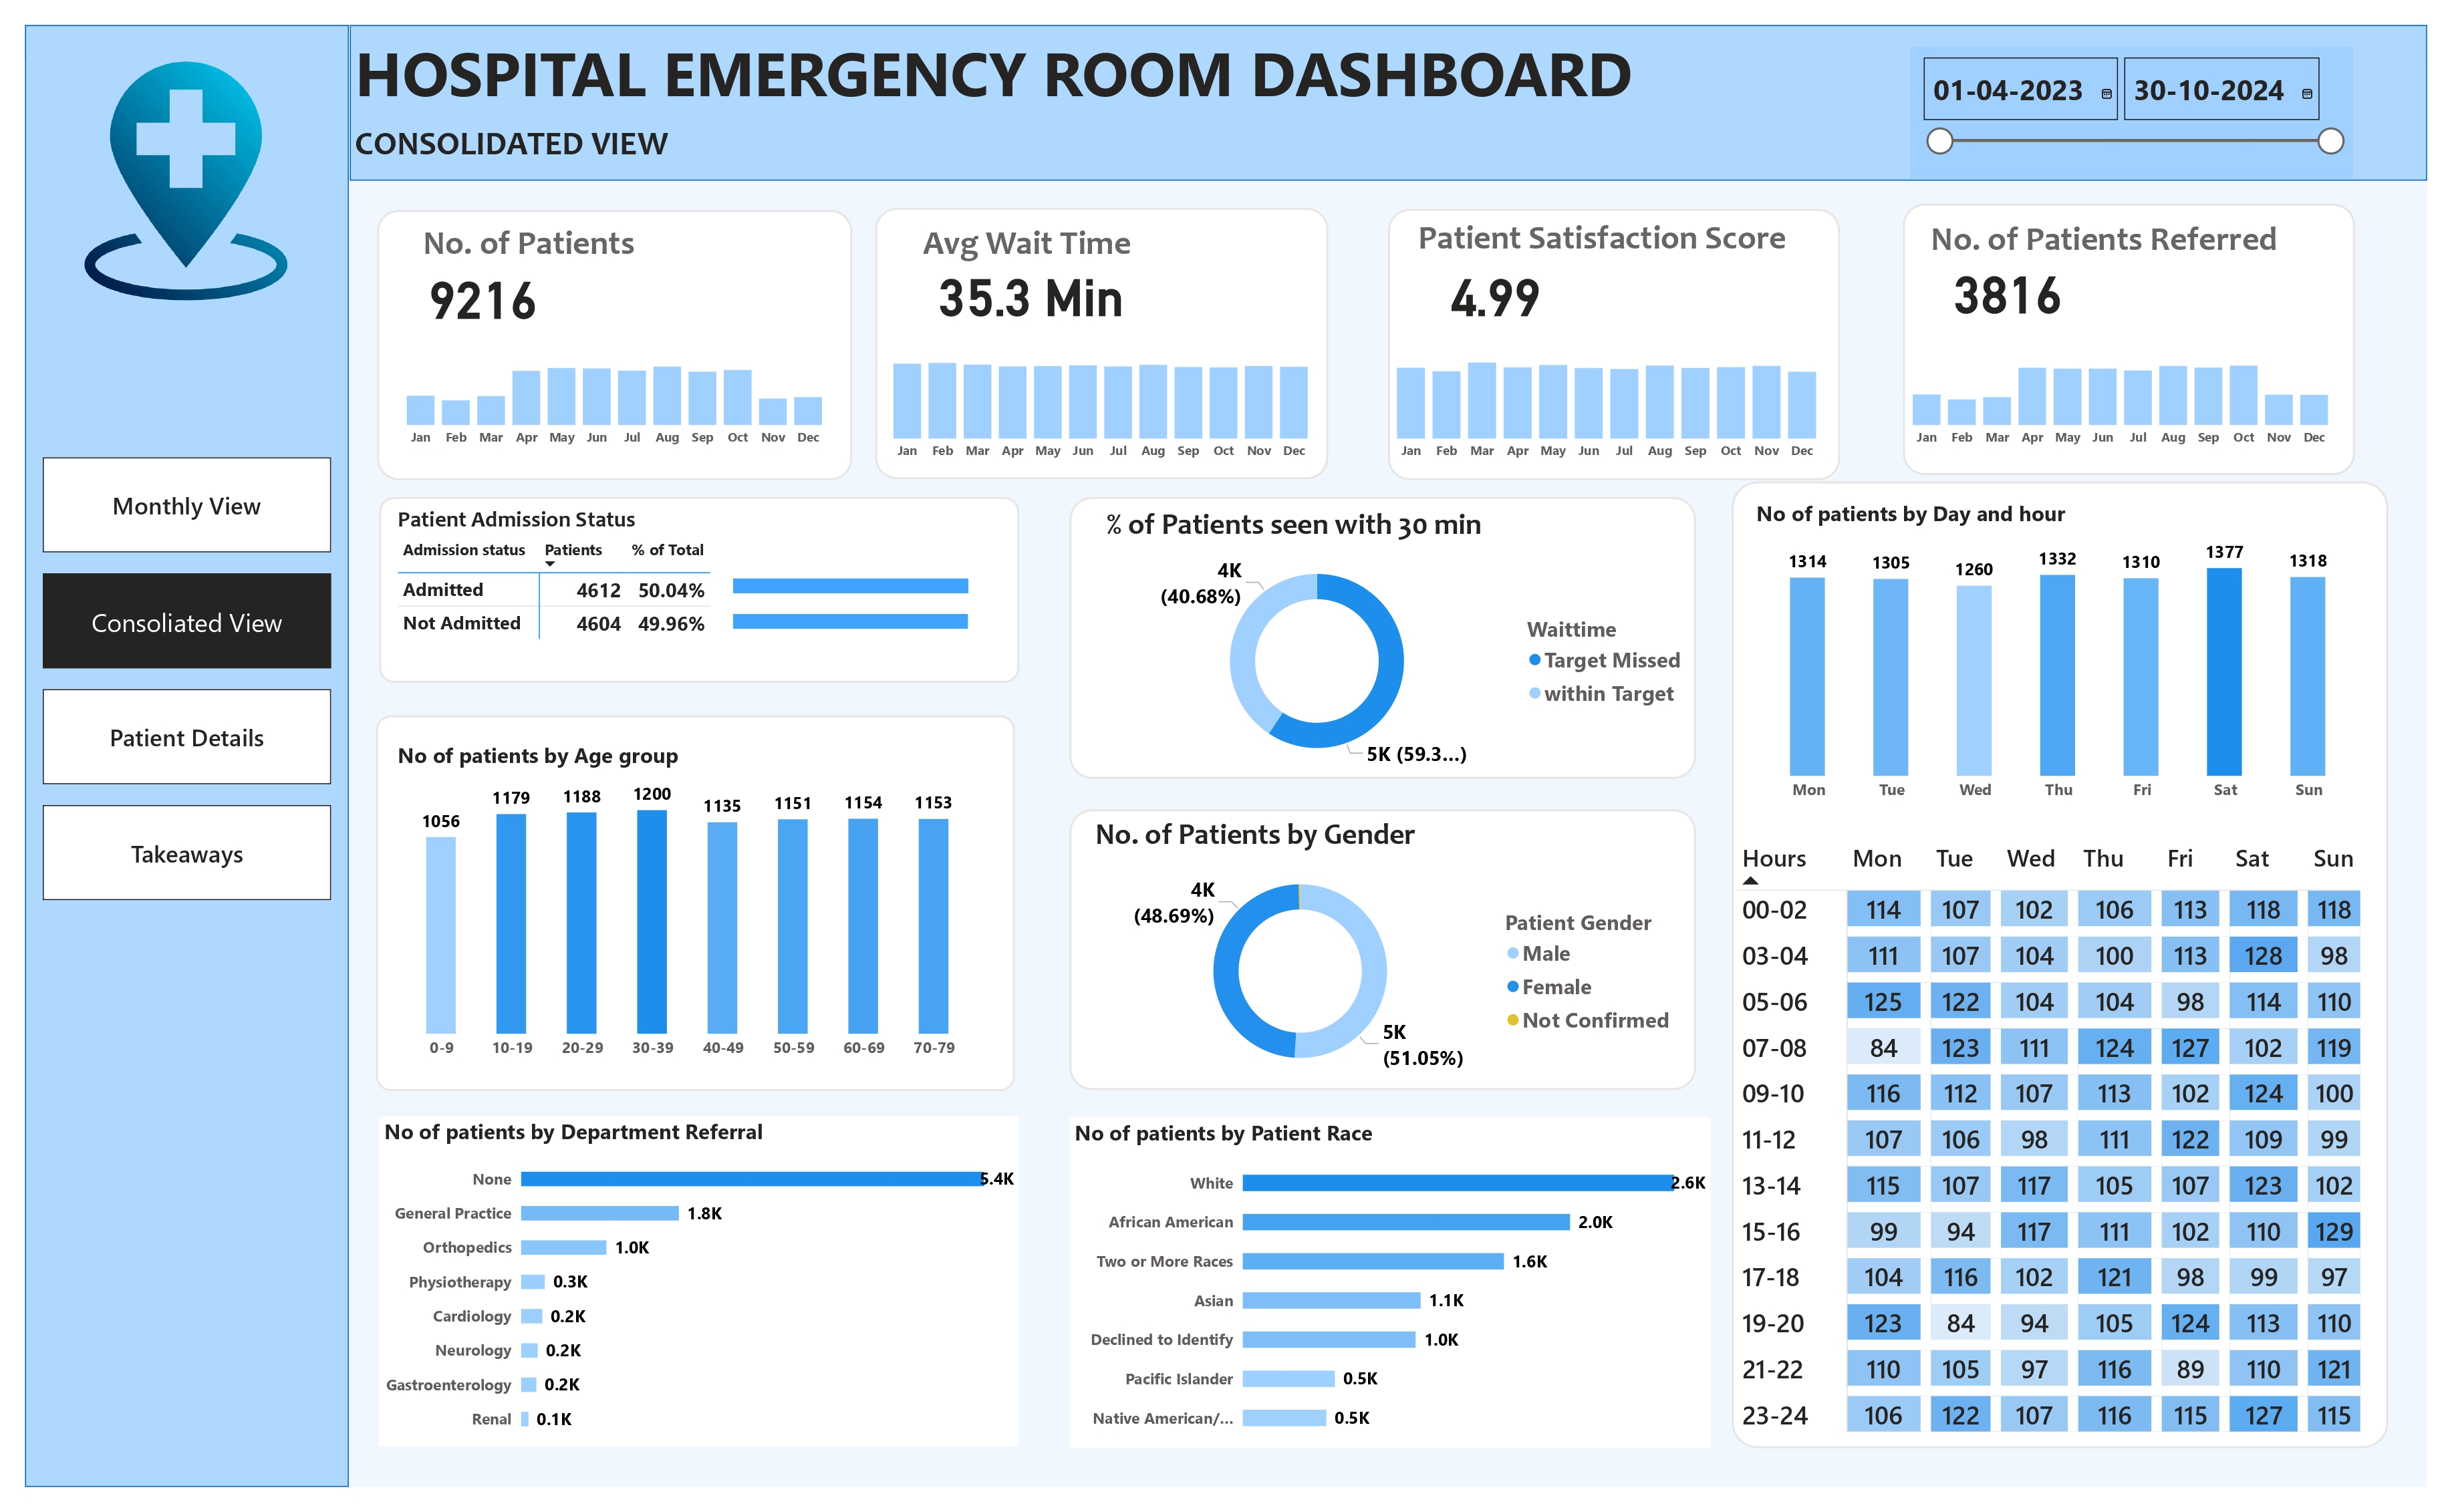

The dashboard page shown, as its layout file describes it:
{"tool":"powerbi","page":{"name":"Consoliated View","canvas":[2300,1400],"ordinal":1},"visuals":[{"type":"shape","box":[0,0,310,1400],"z":0},{"type":"shape","box":[311.4,0,1988.6,148.6],"z":1000},{"type":"textbox","box":[311.4,0,1842.9,111.4],"z":2000},{"type":"textbox","box":[310.5,89.5,334.2,57.9],"z":3000},{"type":"slicer","title":"DATE","fields":{"Values":["Date Table.Date"]},"box":[1805.3,21.1,423.7,126.3],"z":4000},{"type":"shape","box":[337.1,177.1,455,259],"z":5000},{"type":"textbox","box":[376.3,184.2,265.8,57.9],"z":6000},{"type":"card","fields":{"Values":["Hospital ER_Data.No of patients"]},"box":[376.3,213.2,123.7,89.5],"z":7000},{"type":"columnChart","fields":{"Category":["Date Table.Month Name"],"Y":["Hospital ER_Data.No of patients"]},"box":[347.4,286.8,434.2,126.3],"z":8000},{"type":"shape","box":[813.8,175.2,434.3,260],"z":9000},{"type":"card","fields":{"Values":["Hospital ER_Data.Avg wait time"]},"box":[855.3,215.8,215.8,78.9],"z":10000},{"type":"columnChart","fields":{"Category":["Date Table.Month Name"],"Y":["Avg(Hospital ER_Data.Patient Waittime)"]},"box":[813.2,302.6,434.2,123.7],"z":11000},{"type":"shape","box":[1304.8,176.2,433.3,259.5],"z":12000},{"type":"shape","box":[1797.6,171.4,433.3,259.5],"z":13000},{"type":"textbox","box":[855.3,184.2,286.8,52.6],"z":14000},{"type":"textbox","box":[1328.9,178.9,410.5,81.6],"z":15000},{"type":"card","fields":{"Values":["Avg(Hospital ER_Data.Patient Satisfaction Score)"]},"box":[1300,215.8,215.8,78.9],"z":16000},{"type":"columnChart","fields":{"Category":["Date Table.Month Name"],"Y":["Avg(Hospital ER_Data.Patient Satisfaction Score)"]},"box":[1294.7,300,439.5,126.3],"z":17000},{"type":"textbox","box":[1820,180,411.4,62.9],"z":18000},{"type":"card","fields":{"Values":["Hospital ER_Data.No of patient referred"]},"box":[1789.5,213.2,218.4,78.9],"z":19000},{"type":"columnChart","fields":{"Category":["Date Table.Month Name"],"Y":["Hospital ER_Data.No of patient referred"]},"box":[1789.5,286.8,434.2,126.3],"z":20000},{"type":"shape","box":[339.4,451.5,612.1,178.8],"z":21000},{"type":"pivotTable","title":"Patient Admission Status ","fields":{"Rows":["Hospital ER_Data.Admission status"],"Values":["Hospital ER_Data.No of patients","Divide(Hospital ER_Data.No of patients, ScopedEval(Hospital ER_Data.No of patients, []))"]},"box":[351.5,451.5,321.2,178.8],"z":22000},{"type":"barChart","fields":{"Category":["Hospital ER_Data.Admission status"],"Y":["Hospital ER_Data.No of patients"]},"box":[672.7,500,303,103],"z":23000},{"type":"shape","box":[336.4,660.6,612.1,360.6],"z":24000},{"type":"clusteredColumnChart","fields":{"Y":["Hospital ER_Data.No of patients"],"Category":["Hospital ER_Data.Age group"]},"box":[351.5,684.8,566.7,315.2],"z":25000},{"type":"clusteredBarChart","fields":{"Y":["Hospital ER_Data.No of patients"],"Category":["Hospital ER_Data.Department Referral"]},"box":[339.4,1045.5,612.1,315.2],"z":26000},{"type":"shape","box":[1000,451.5,600,270],"z":27000},{"type":"donutChart","title":"% of Patients seen with 30 min","fields":{"Category":["Hospital ER_Data.Waittime"],"Y":["Hospital ER_Data.No of patients"]},"box":[1031.4,460,568.6,262.9],"z":28000},{"type":"shape","box":[1000,751.4,600,268.6],"z":29000},{"type":"donutChart","title":"No. of Patients by Gender","fields":{"Y":["Hospital ER_Data.No of patients"],"Category":["Hospital ER_Data.Patient Gender"]},"box":[1020,757.1,568.6,262.9],"z":30000},{"type":"clusteredBarChart","fields":{"Y":["Hospital ER_Data.No of patients"],"Category":["Hospital ER_Data.Patient Race"]},"box":[1000,1045.7,614.3,317.1],"z":31000},{"type":"shape","box":[1634.2,436.8,628.9,926.3],"z":32000},{"type":"pivotTable","fields":{"Rows":["Hospital ER_Data.Waittime Interval"],"Columns":["Date Table.Day Name"],"Values":["Hospital ER_Data.No of patients"]},"box":[1634.2,776.3,628.9,584.2],"z":33000},{"type":"columnChart","fields":{"Y":["Hospital ER_Data.No of patients"],"Category":["Date Table.Day Name"]},"box":[1652.6,452.6,589.5,300],"z":34000},{"type":"image","box":[34.2,21.1,239.5,255.3],"z":35000},{"type":"pageNavigator","box":[17.2,413.8,275.9,427.6],"z":36000}]}

Visuals, with their boxes on the page's 2300x1400 design canvas (x1, y1, x2, y2). These are canvas units, not pixel positions in the 2452x1512 screenshot, which may show the page scaled, cropped or inside an application window:
shape: <box>0,0,310,1400</box>
shape: <box>311,0,2300,149</box>
textbox: <box>311,0,2154,111</box>
textbox: <box>310,90,645,147</box>
"DATE" slicer: <box>1805,21,2229,147</box>
shape: <box>337,177,792,436</box>
textbox: <box>376,184,642,242</box>
card - Hospital ER_Data.No of patients: <box>376,213,500,303</box>
columnChart - Date Table.Month Name x Hospital ER_Data.No of patients: <box>347,287,782,413</box>
shape: <box>814,175,1248,435</box>
card - Hospital ER_Data.Avg wait time: <box>855,216,1071,295</box>
columnChart - Date Table.Month Name x Avg(Hospital ER_Data.Patient Waittime): <box>813,303,1247,426</box>
shape: <box>1305,176,1738,436</box>
shape: <box>1798,171,2231,431</box>
textbox: <box>855,184,1142,237</box>
textbox: <box>1329,179,1739,260</box>
card - Avg(Hospital ER_Data.Patient Satisfaction Score): <box>1300,216,1516,295</box>
columnChart - Date Table.Month Name x Avg(Hospital ER_Data.Patient Satisfaction Score): <box>1295,300,1734,426</box>
textbox: <box>1820,180,2231,243</box>
card - Hospital ER_Data.No of patient referred: <box>1790,213,2008,292</box>
columnChart - Date Table.Month Name x Hospital ER_Data.No of patient referred: <box>1790,287,2224,413</box>
shape: <box>339,452,952,630</box>
"Patient Admission Status " pivotTable: <box>352,452,673,630</box>
barChart - Hospital ER_Data.Admission status x Hospital ER_Data.No of patients: <box>673,500,976,603</box>
shape: <box>336,661,948,1021</box>
clusteredColumnChart - Hospital ER_Data.No of patients x Hospital ER_Data.Age group: <box>352,685,918,1000</box>
clusteredBarChart - Hospital ER_Data.No of patients x Hospital ER_Data.Department Referral: <box>339,1046,952,1361</box>
shape: <box>1000,452,1600,722</box>
"% of Patients seen with 30 min" donutChart: <box>1031,460,1600,723</box>
shape: <box>1000,751,1600,1020</box>
"No. of Patients by Gender" donutChart: <box>1020,757,1589,1020</box>
clusteredBarChart - Hospital ER_Data.No of patients x Hospital ER_Data.Patient Race: <box>1000,1046,1614,1363</box>
shape: <box>1634,437,2263,1363</box>
pivotTable - Hospital ER_Data.Waittime Interval x Date Table.Day Name: <box>1634,776,2263,1360</box>
columnChart - Hospital ER_Data.No of patients x Date Table.Day Name: <box>1653,453,2242,753</box>
image: <box>34,21,274,276</box>
pageNavigator: <box>17,414,293,841</box>
